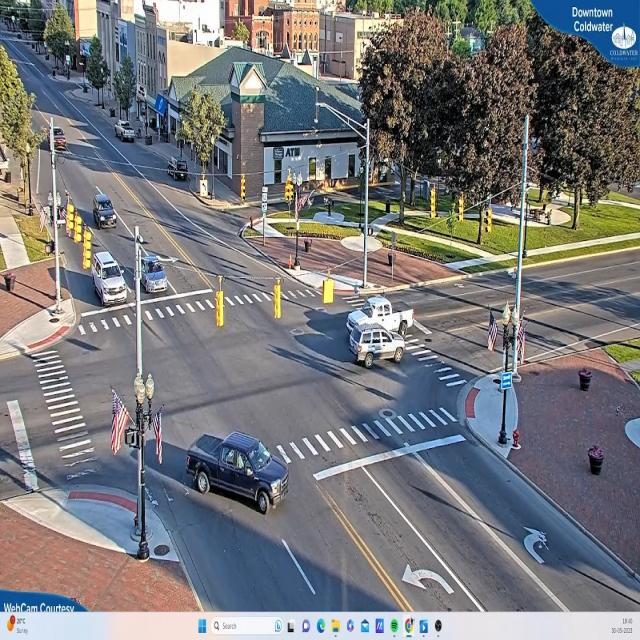car: (185, 428, 292, 517), (350, 328, 402, 366), (95, 252, 127, 304), (93, 192, 116, 228), (145, 260, 169, 294), (164, 157, 190, 180), (116, 122, 136, 142)
